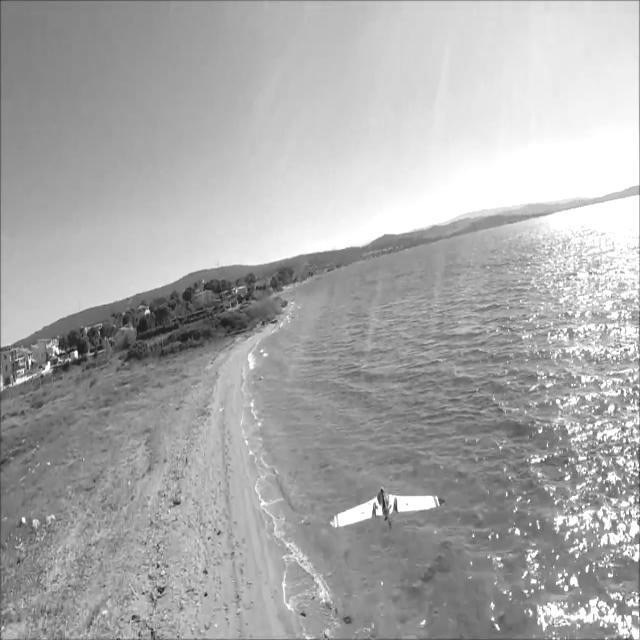iha: (359, 472, 409, 534)
